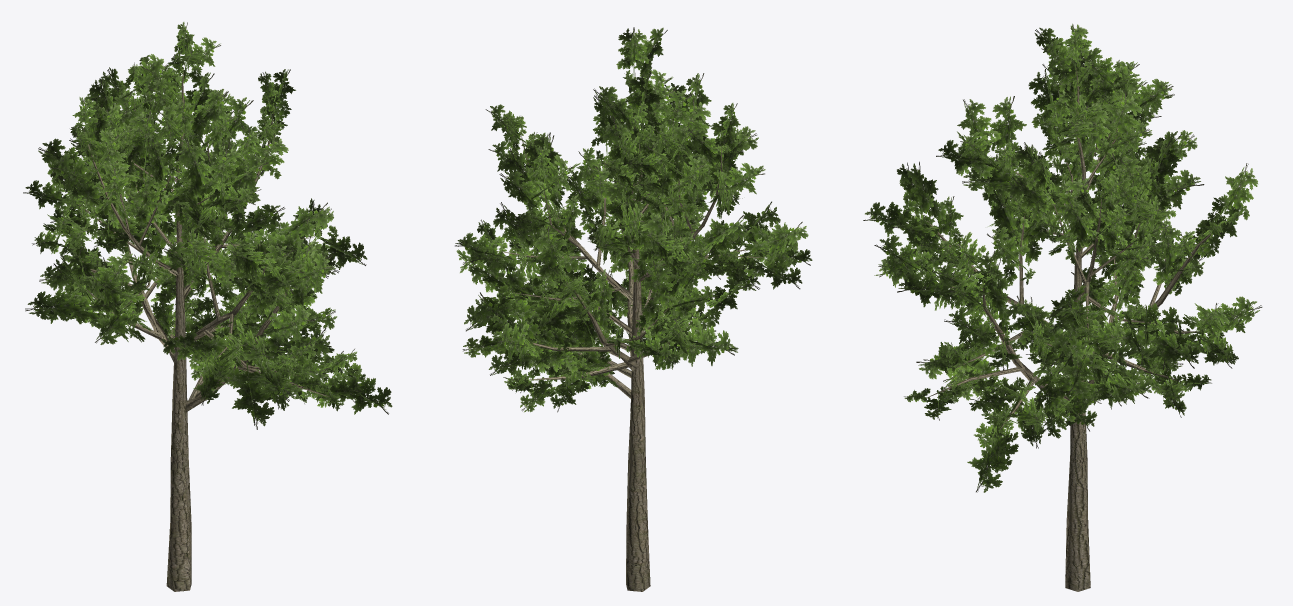
Rendered from ez-oak-02-medium.glb.
The picture shows the model from 3 angles, left to right: view 1: azimuth 30°, elevation 25°; view 2: azimuth 150°, elevation 25°; view 3: azimuth 270°, elevation 25°; orthographic projection.
Visible parts, largest first — view 1: leaves, branches; view 2: leaves, branches; view 3: leaves, branches.
Part boxes in pixels (x1,y1,x2,y2): leaves: (23, 22, 392, 429); branches: (63, 65, 333, 591); leaves: (455, 27, 812, 412); branches: (497, 73, 764, 591); leaves: (863, 23, 1262, 492); branches: (921, 67, 1225, 591).
Size of the model in its own units: 41.65 by 66.19 by 44.22.
Materials: 2 (2 with a texture image).
